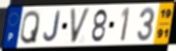1: (120, 6, 131, 43)
3: (136, 6, 155, 42)
8: (91, 9, 108, 43)
J: (43, 9, 62, 43)
Q: (19, 9, 41, 46)
V: (69, 7, 92, 46)
